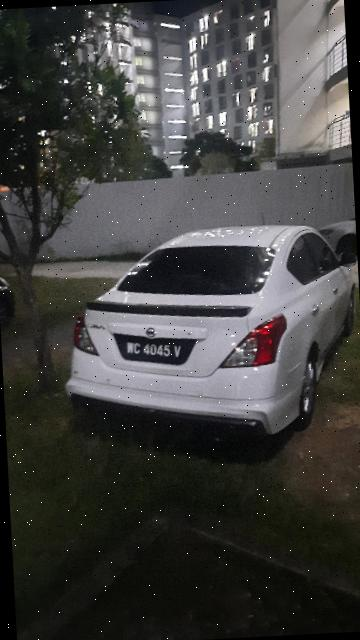License_Plate: (109, 329, 198, 370)
car: (54, 215, 360, 451)
